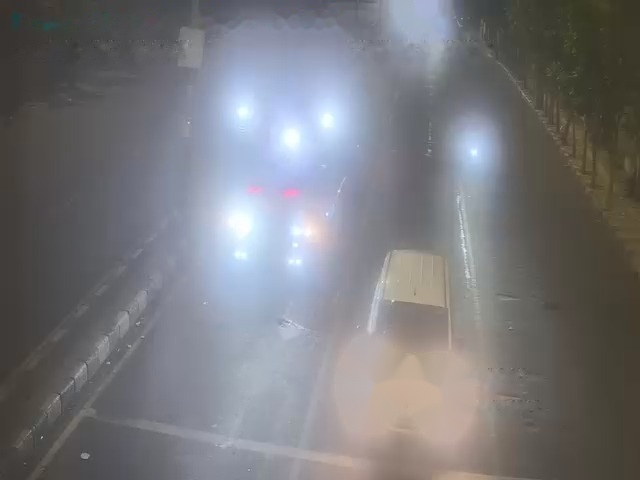Mobil: (362, 248, 456, 436)
Motor: (465, 140, 488, 167)
Truk: (224, 71, 348, 289)
